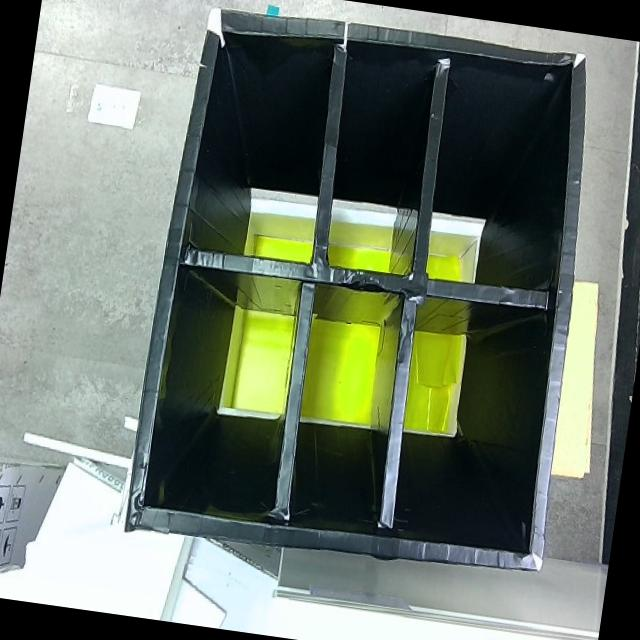box: (112, 0, 618, 586)
